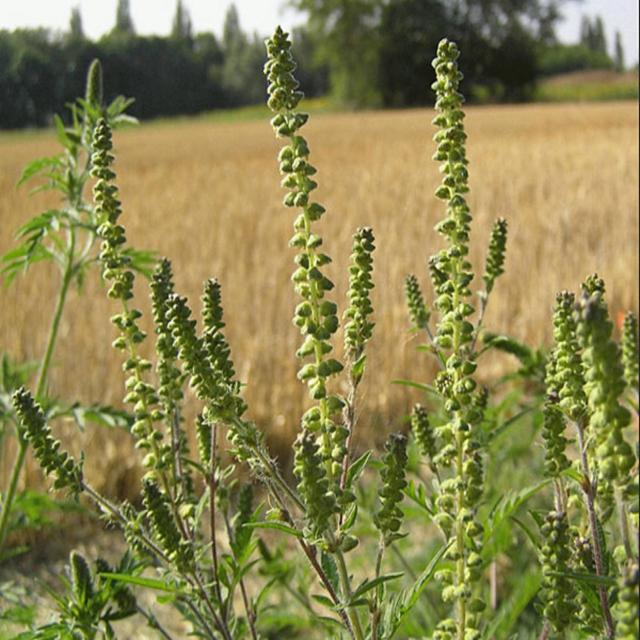ambrosia: (20, 97, 233, 491), (404, 21, 512, 640), (251, 21, 386, 512), (527, 215, 640, 628)
